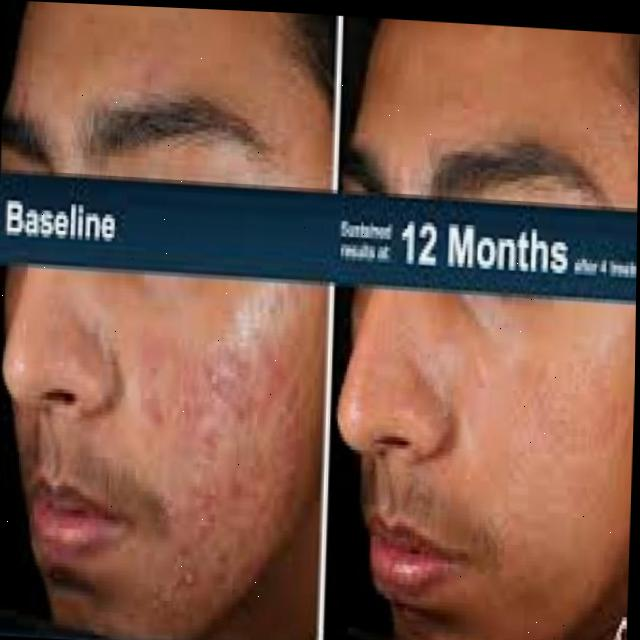Rosacea: (120, 316, 303, 613)
